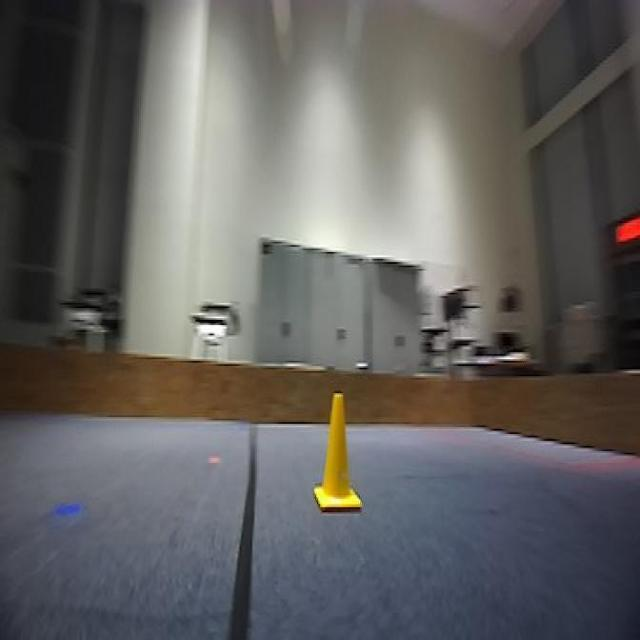frc_cone: (315, 388, 363, 504)
